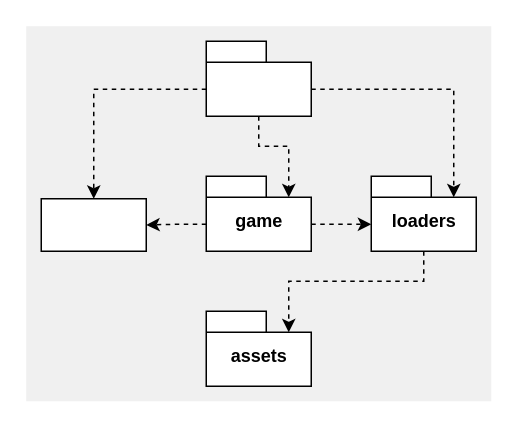
The diagram is 516 pixels wide and 426 high, and some of its shapes have lost their labels. Here are the shapes that lost their labels. From the top down, the centre of each, then its label:
the point at 258,78: ui
the point at 93,224: DataBase
